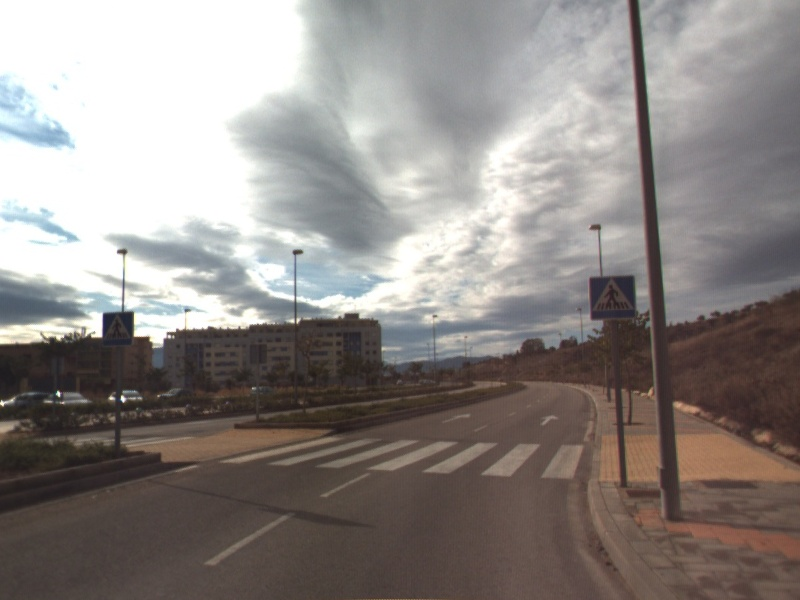STRAIGHT: (440, 412, 473, 425), (538, 412, 561, 428)
